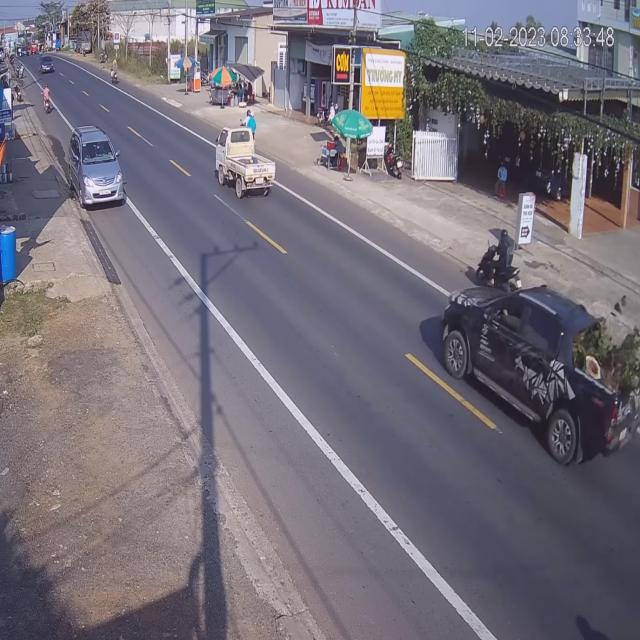car: (440, 288, 640, 474), (66, 127, 126, 211), (40, 57, 54, 76)
motorbike: (472, 228, 524, 294), (42, 84, 52, 116), (111, 65, 119, 87)
truck: (216, 116, 275, 202)
